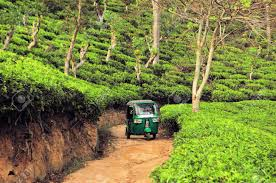tuk tuk: (123, 99, 161, 142)
